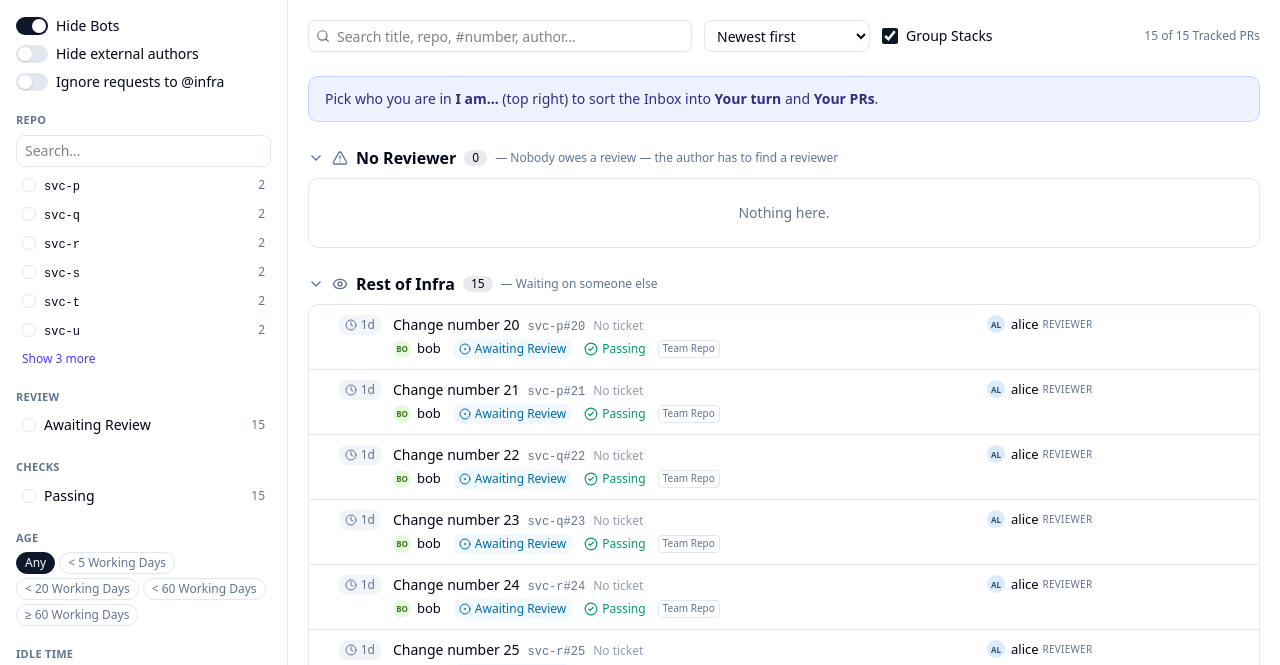
Test: the Inbox’s facets › with nine values or more › show every match while searching, and the capped view again once cleared, though it was opened before
This screenshot has width=1280, height=665.
Click the button "Show 3 more": x=59, y=358 [16, 350, 102, 366]
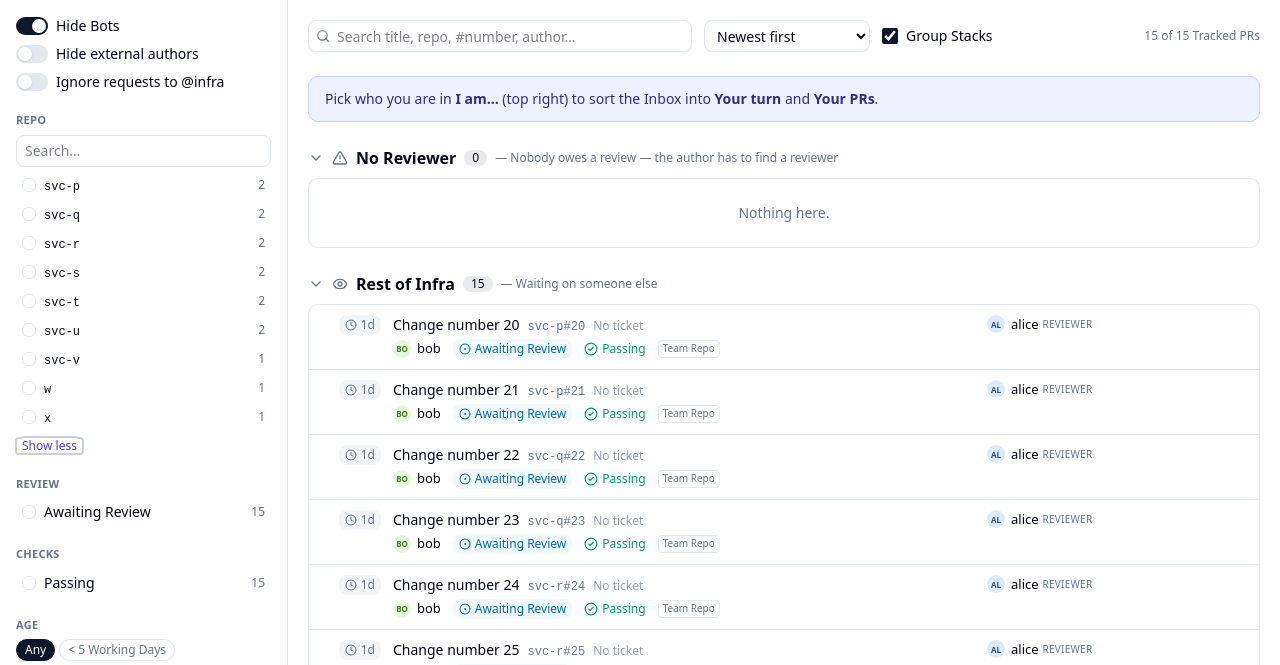
In the search field with placeholder "Search…": x=144, y=150 [16, 134, 271, 166], type "svc"
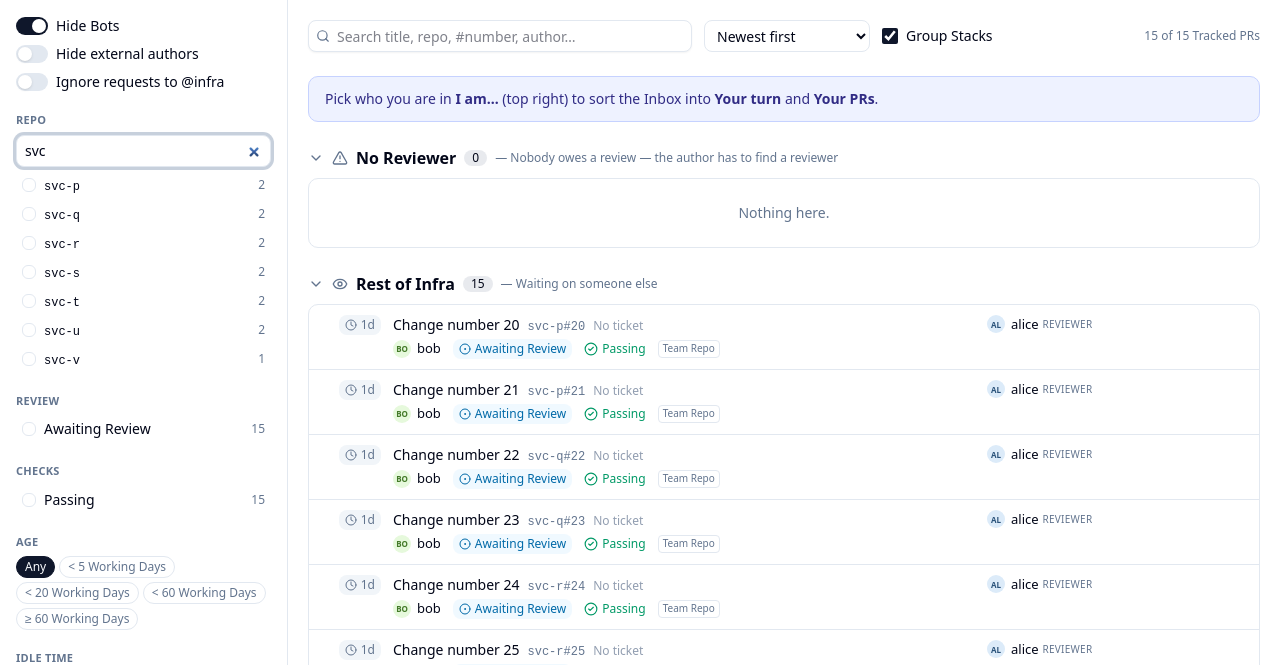
Check: the button "Show" is gone
Clear the search field named "Search Repo": x=144, y=150 [16, 134, 271, 166]
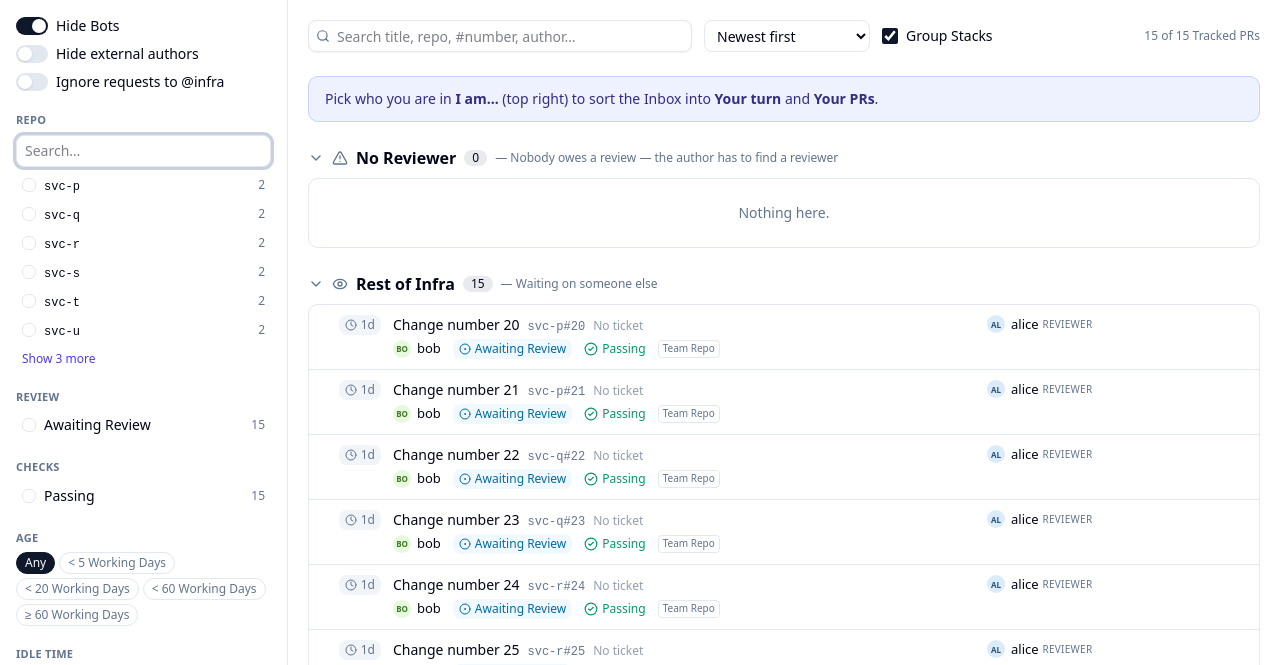
Check: the button "Show 3 more" is shown, box [16, 350, 102, 366]
